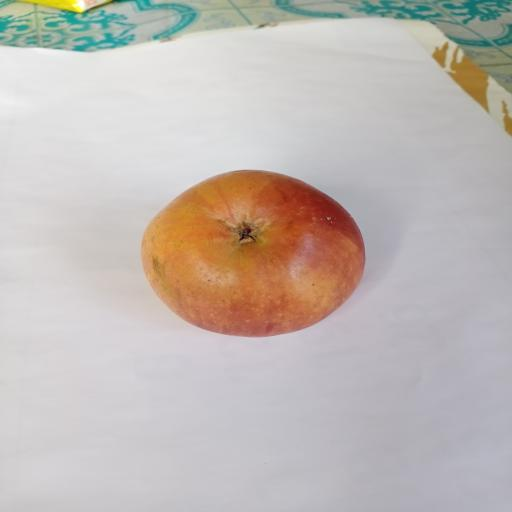apple-ripe: (127, 152, 383, 361)
